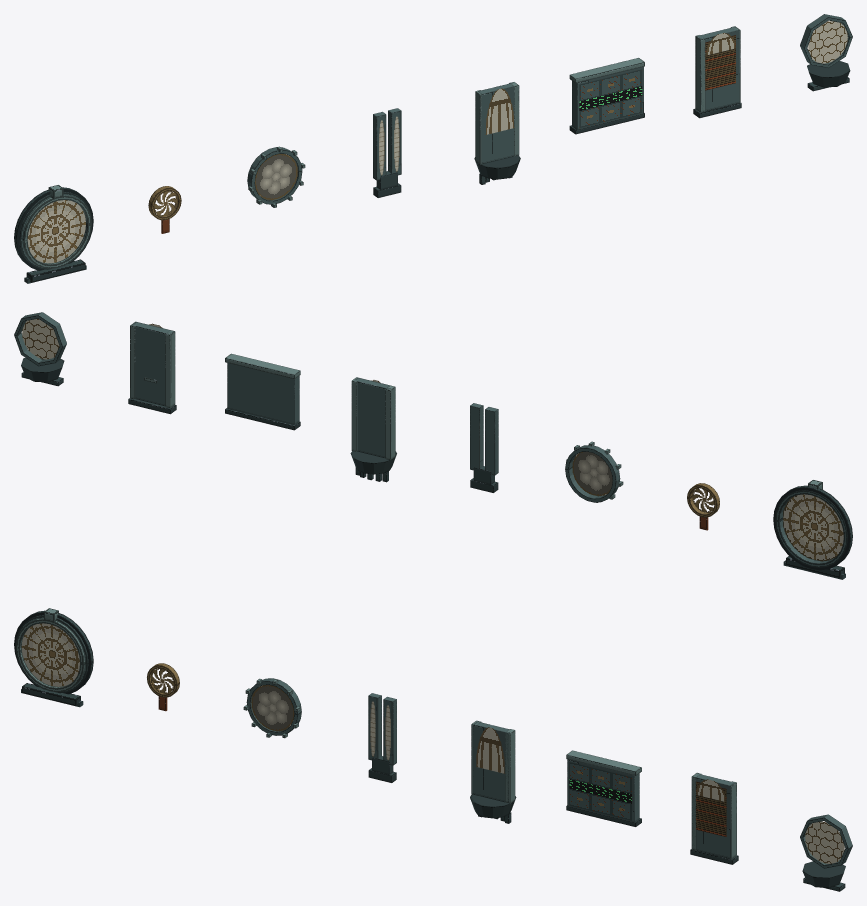
The model's file is window_pieces.gltf.
3 views of the same model, one above another, from view 1: azimuth 30°, elevation 25°; view 2: azimuth 150°, elevation 25°; view 3: azimuth 330°, elevation 25° (orthographic).
Visible parts, largest first — view 1: WindowRoseAperture, WindowDrawerBand, WindowBalconyBay, WindowRollingShutter, WindowHoneycombCell, WindowMembranePore, WindowCapillarySlits, WindowRoseVent; view 2: WindowRoseAperture, WindowDrawerBand, WindowBalconyBay, WindowRollingShutter, WindowHoneycombCell, WindowMembranePore, WindowCapillarySlits, WindowRoseVent; view 3: WindowRoseAperture, WindowDrawerBand, WindowBalconyBay, WindowRollingShutter, WindowHoneycombCell, WindowMembranePore, WindowCapillarySlits, WindowRoseVent.
Part boxes in pixels (left/top/right/bottom): WindowRoseAperture: left=14, top=185, right=93, bottom=283; WindowDrawerBand: left=569, top=57, right=644, bottom=134; WindowBalconyBay: left=474, top=82, right=520, bottom=184; WindowRollingShutter: left=693, top=26, right=741, bottom=118; WindowHoneycombCell: left=800, top=14, right=852, bottom=91; WindowMembranePore: left=247, top=146, right=305, bottom=207; WindowCapillarySlits: left=373, top=108, right=401, bottom=197; WindowRoseVent: left=148, top=186, right=181, bottom=233; WindowRoseAperture: left=773, top=480, right=852, bottom=579; WindowDrawerBand: left=225, top=353, right=300, bottom=430; WindowBalconyBay: left=350, top=377, right=396, bottom=482; WindowRollingShutter: left=128, top=321, right=176, bottom=414; WindowHoneycombCell: left=14, top=312, right=66, bottom=386; WindowMembranePore: left=565, top=441, right=623, bottom=502; WindowCapillarySlits: left=470, top=403, right=498, bottom=492; WindowRoseVent: left=687, top=483, right=719, bottom=530; WindowRoseAperture: left=14, top=608, right=93, bottom=707; WindowDrawerBand: left=566, top=750, right=641, bottom=826; WindowBalconyBay: left=470, top=720, right=516, bottom=823; WindowRollingShutter: left=690, top=772, right=738, bottom=864; WindowHoneycombCell: left=800, top=814, right=852, bottom=891; WindowMembranePore: left=243, top=678, right=301, bottom=738; WindowCapillarySlits: left=368, top=693, right=396, bottom=782; WindowRoseVent: left=147, top=663, right=179, bottom=711.
Size of the model in its own units: 14.38 by 1.67 by 0.6944.
Materials: 8 (8 with a texture image).
